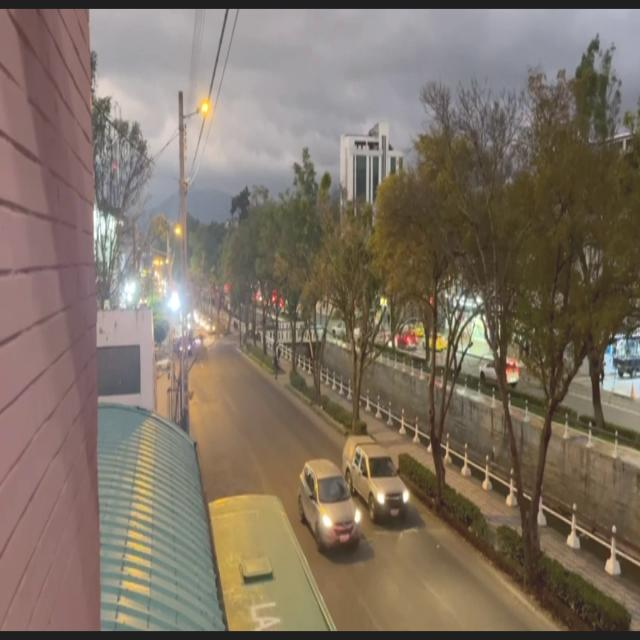CMT: (344, 436, 406, 518)
SUV: (303, 464, 347, 550)
